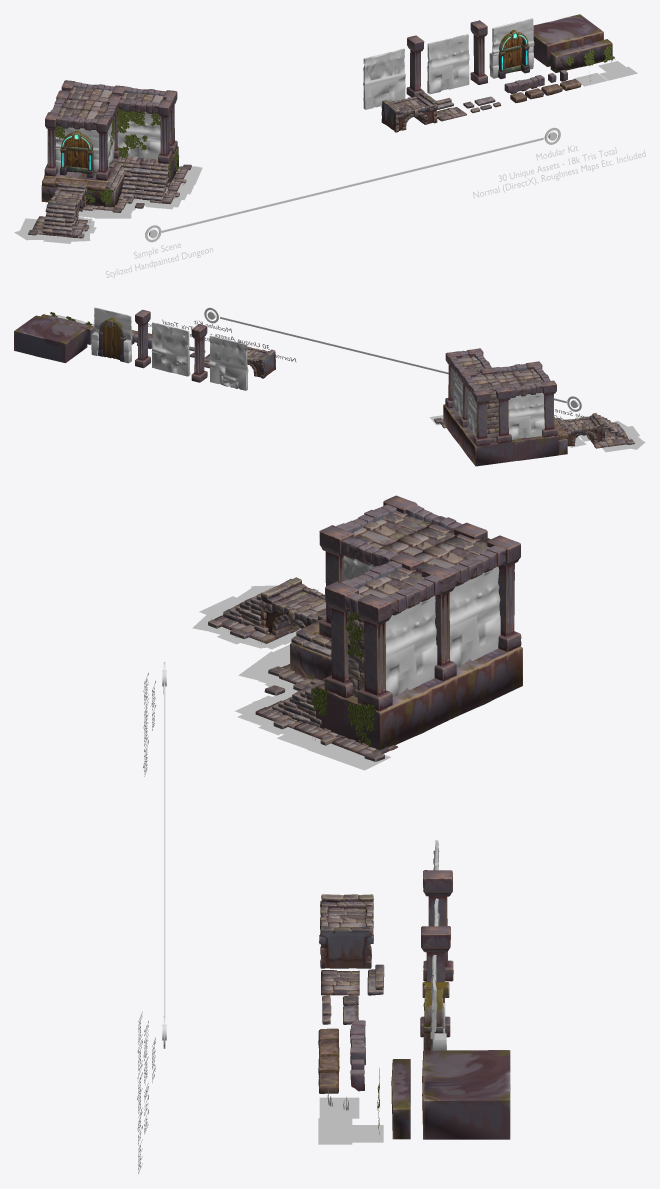
File: styilzed handpainted dungeon kit_setup_3.fbx
The picture shows the model from 3 angles, top to bottom: view 1: azimuth 30°, elevation 25°; view 2: azimuth 150°, elevation 25°; view 3: azimuth 270°, elevation 25°; orthographic projection. The views are drawn at different scales.
Parts seen in each view (by area): view 1: brick wall modules_low.008, brick wall modules_low.009, fundament_low.008, bridge_low.085, brick wall modules_low.005, fundament_low.009, Cube, brick wall_low.002, Text.003, Pillar_low.019, bridge_low.004, Pillar_low.010 (+18 smaller); view 2: fundament_low.008, brick wall modules_low.009, brick wall modules_low.008, brick wall modules_low.001, fundament_low.007, brick wall_low.002, bridge_low.004, fundament_low.001, Pillar_low.008, bridge_low.085, Pillar_low.010, Pillar_low.004 (+20 smaller); view 3: fundament_low.008, fundament_low.005, brick wall modules_low.006, brick wall modules_low.007, bridge_low.085, fundament_low.007, Pillar_low.007, bridge_low.004, Pillar_low.006, Pillar_low.008, Pillar_low.009, Pillar_low.010 (+14 smaller).
Part boxes in pixels (left/top/right/bottom): brick wall modules_low.008: left=427, top=34, right=469, bottom=94; brick wall modules_low.009: left=363, top=48, right=405, bottom=109; fundament_low.008: left=533, top=14, right=603, bottom=66; bridge_low.085: left=381, top=91, right=437, bottom=132; brick wall modules_low.005: left=117, top=111, right=160, bottom=159; fundament_low.009: left=550, top=39, right=612, bottom=72; Cube: left=161, top=137, right=543, bottom=232; brick wall_low.002: left=489, top=18, right=534, bottom=78; Text.003: left=473, top=147, right=645, bottom=198; Pillar_low.019: left=470, top=20, right=487, bottom=84; bridge_low.004: left=48, top=182, right=87, bottom=222; Pillar_low.010: left=406, top=35, right=424, bottom=97; fundament_low.008: left=14, top=315, right=87, bottom=363; brick wall modules_low.009: left=209, top=335, right=248, bottom=390; brick wall modules_low.008: left=151, top=322, right=190, bottom=376; brick wall modules_low.001: left=508, top=392, right=544, bottom=439; fundament_low.007: left=459, top=427, right=516, bottom=466; brick wall_low.002: left=91, top=307, right=132, bottom=363; bridge_low.004: left=556, top=413, right=605, bottom=446; fundament_low.001: left=516, top=434, right=558, bottom=460; Pillar_low.008: left=473, top=389, right=490, bottom=446; bridge_low.085: left=237, top=341, right=276, bottom=378; Pillar_low.010: left=191, top=324, right=207, bottom=382; Pillar_low.004: left=495, top=386, right=511, bottom=443; fundament_low.008: left=422, top=1050, right=510, bottom=1139; fundament_low.005: left=316, top=675, right=459, bottom=750; brick wall modules_low.006: left=385, top=595, right=437, bottom=697; brick wall modules_low.007: left=449, top=566, right=500, bottom=667; bridge_low.085: left=319, top=894, right=373, bottom=968; fundament_low.007: left=448, top=646, right=522, bottom=720; Pillar_low.007: left=357, top=594, right=392, bottom=710; bridge_low.004: left=259, top=577, right=326, bottom=635; Pillar_low.006: left=324, top=581, right=358, bottom=698; Pillar_low.008: left=487, top=535, right=521, bottom=651; Pillar_low.009: left=421, top=564, right=456, bottom=680; Pillar_low.010: left=423, top=870, right=453, bottom=981.
Size of the model in its own units: 5414 by 963 by 1579.
